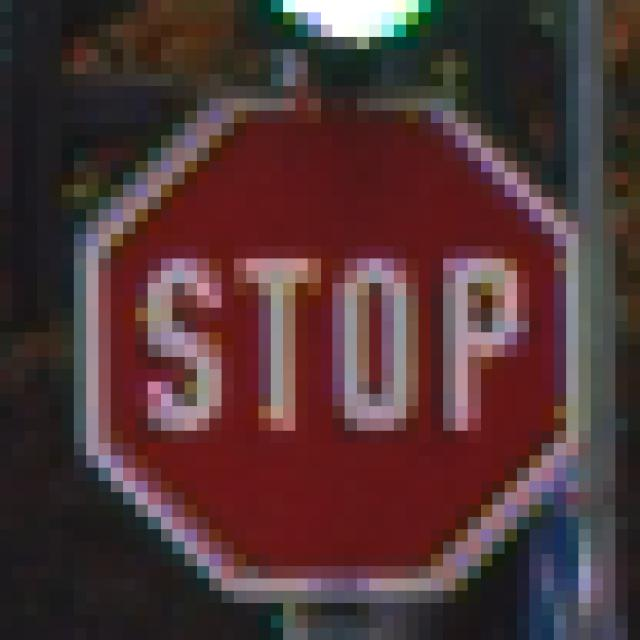STOP: (75, 63, 579, 580)
